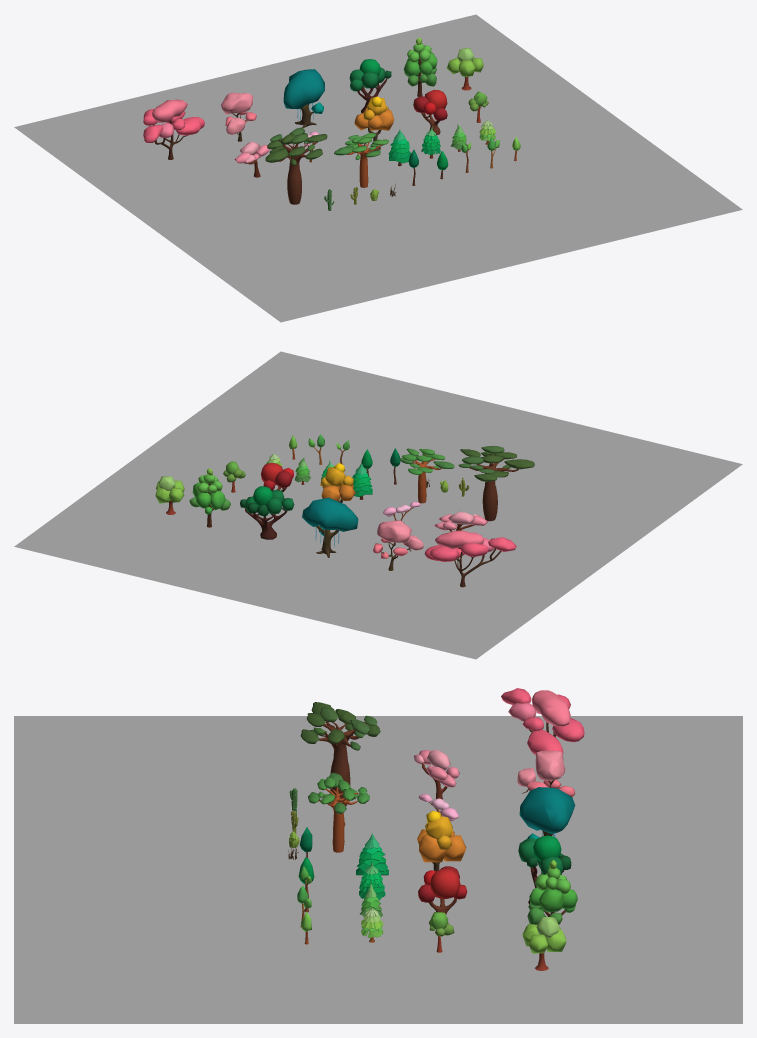
Rendered from TreeLowpoly.fbx.
3 views of the same model, one above another, from view 1: azimuth 30°, elevation 25°; view 2: azimuth 150°, elevation 25°; view 3: azimuth 270°, elevation 25° (orthographic). The views are drawn at different scales.
Visible parts, largest first — view 1: pPlane1, Tree015, Tree026, Tree024, Tree022, Tree023, Tree014, Tree025, Tree018, Tree017, Tree021, Tree019 (+1 smaller); view 2: pPlane1, Tree026, Tree015, Tree024, Tree023, Tree025, Tree022, Tree014, Tree018, Tree021, Tree017, Tree019; view 3: pPlane1, Tree026, Tree015, Tree024, Tree022, Tree018, Tree014, Tree017, Tree023, Tree025, Tree021, Tree019 (+2 smaller).
Part boxes in pixels (box(x1,y1,x2,y2)): pPlane1: box(14, 14, 742, 322); Tree015: box(265, 127, 327, 204); Tree026: box(143, 99, 204, 159); Tree024: box(283, 69, 324, 127); Tree022: box(403, 37, 437, 96); Tree023: box(349, 59, 391, 112); Tree014: box(334, 133, 388, 187); Tree025: box(221, 92, 256, 141); Tree018: box(354, 96, 394, 150); Tree017: box(413, 89, 447, 135); Tree021: box(446, 48, 483, 90); Tree019: box(234, 141, 269, 177); pPlane1: box(14, 351, 742, 659); Tree026: box(424, 530, 516, 587); Tree015: box(458, 445, 534, 521); Tree024: box(302, 497, 358, 557); Tree023: box(240, 486, 294, 539); Tree025: box(373, 520, 423, 570); Tree022: box(189, 468, 230, 527); Tree014: box(398, 448, 454, 503); Tree018: box(320, 463, 355, 502); Tree021: box(155, 476, 184, 514); Tree017: box(261, 463, 293, 491); Tree019: box(433, 511, 488, 531); pPlane1: box(14, 716, 742, 1023); Tree026: box(501, 688, 584, 754); Tree015: box(300, 702, 380, 806); Tree024: box(519, 787, 575, 839); Tree022: box(527, 860, 577, 924); Tree018: box(417, 810, 466, 870); Tree014: box(308, 772, 369, 852); Tree017: box(418, 866, 467, 914); Tree023: box(518, 835, 571, 904); Tree025: box(517, 750, 575, 796); Tree021: box(522, 917, 566, 970); Tree019: box(414, 749, 459, 799).
Size of the model in its own units: 912 by 132 by 912.
